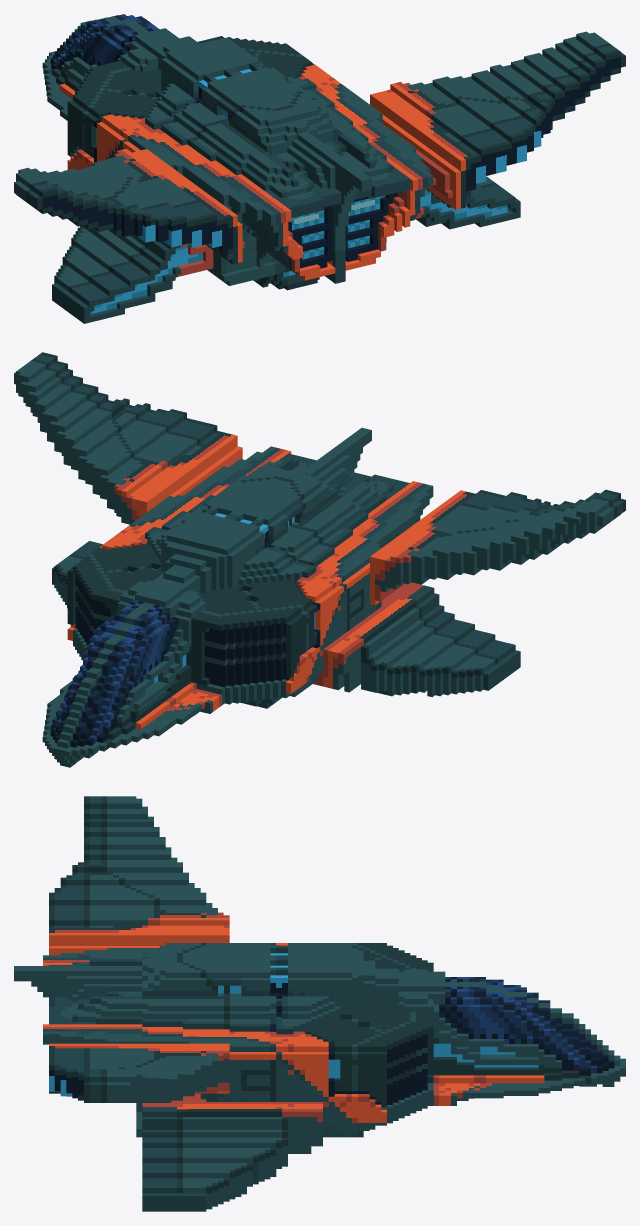
File: sandship.gltf
The picture shows the model from 3 angles, top to bottom: view 1: azimuth 30°, elevation 25°; view 2: azimuth 150°, elevation 25°; view 3: azimuth 270°, elevation 25°; orthographic projection.
Parts seen in each view (by area): view 1: spaceshp-Mesh; view 2: spaceshp-Mesh; view 3: spaceshp-Mesh.
Boxes of the visible parts, box(x1,y1,x2,y2) form: spaceshp-Mesh: box(14, 14, 625, 323); spaceshp-Mesh: box(14, 352, 625, 767); spaceshp-Mesh: box(14, 796, 625, 1211).
Size of the model in its own units: 116 by 35 by 105.
Materials: 1 (1 with a texture image).
